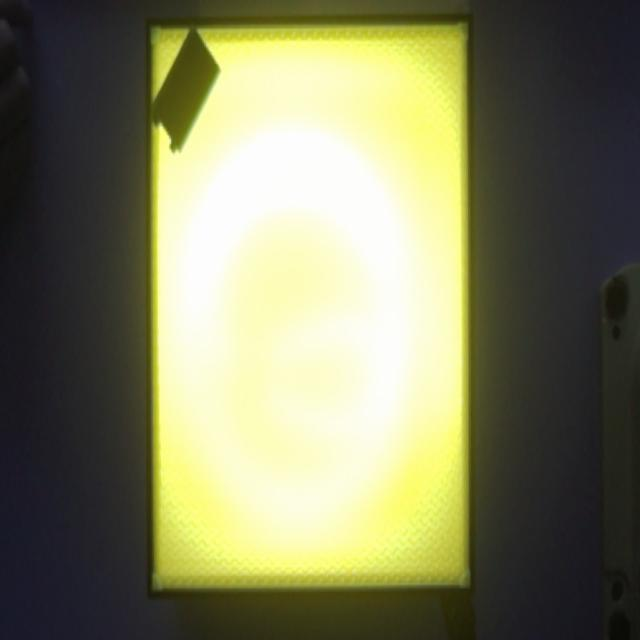bateria: (150, 24, 221, 154)
mesa: (146, 14, 476, 598)
